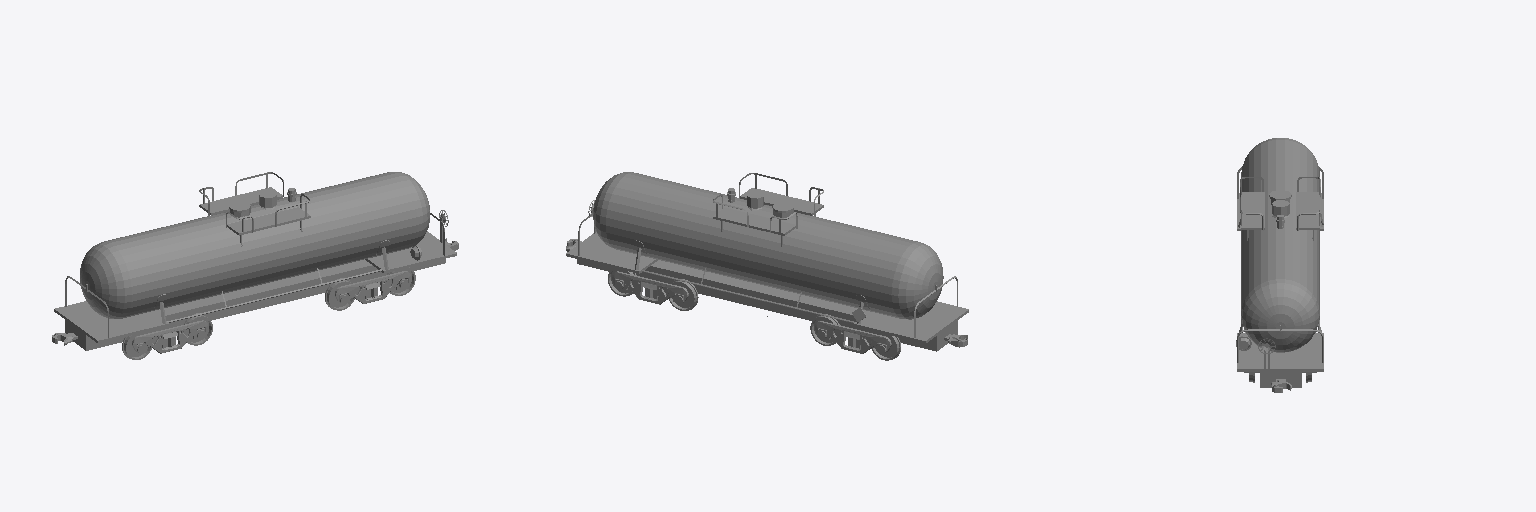
File: train_tank.obj
3 renders of one model, left to right at view 1: azimuth 30°, elevation 25°; view 2: azimuth 150°, elevation 25°; view 3: azimuth 270°, elevation 25°, orthographic.
Visible parts, largest first — view 1: (null); view 2: (null); view 3: (null).
Boxes of the visible parts, box(x1,y1,x2,y2) form: (null): box(52, 172, 458, 359); (null): box(566, 172, 968, 360); (null): box(1236, 138, 1323, 392).
Bounding box in the file's own units: 609 × 178 × 117.